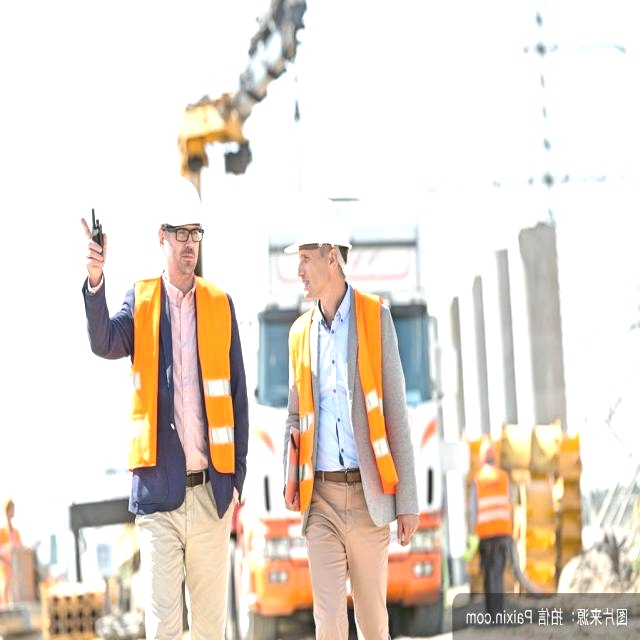Con_Casco: (282, 198, 354, 291), (154, 174, 206, 269)
Con_Chaleco: (125, 277, 239, 480), (288, 298, 396, 510), (473, 463, 512, 545)
